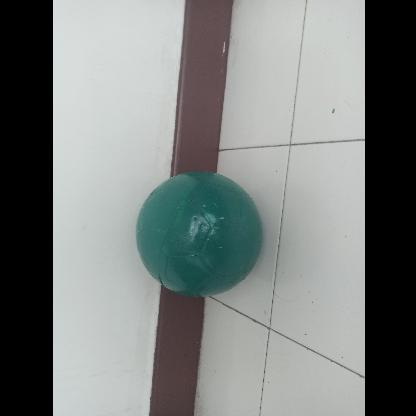green_ball: (134, 172, 260, 296)
